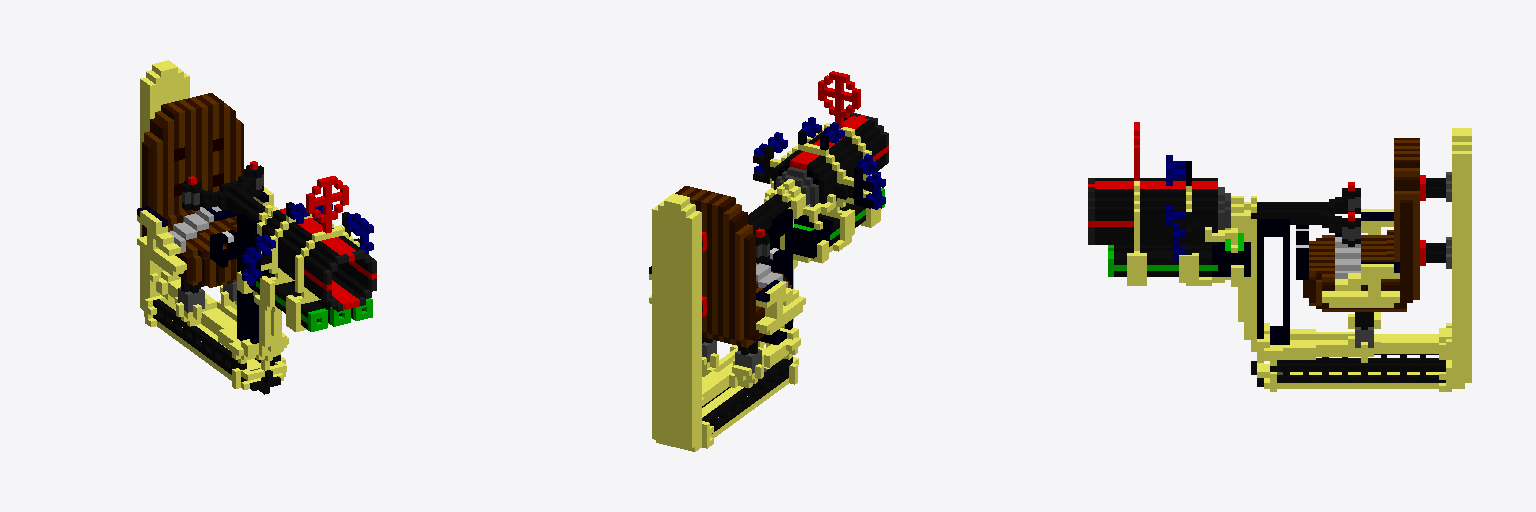
The picture shows the model from 3 angles: view 1: azimuth 30°, elevation 25°; view 2: azimuth 150°, elevation 25°; view 3: azimuth 270°, elevation 25°; orthographic projection.
Parts seen in each view (by area): view 1: OctopodeCanon; view 2: OctopodeCanon; view 3: OctopodeCanon.
Boxes of the visible parts, box(x1,y1,x2,y2) form: OctopodeCanon: box(137, 60, 376, 394); OctopodeCanon: box(649, 71, 888, 451); OctopodeCanon: box(1088, 122, 1471, 391).
Size of the model in its own units: 23 by 44 by 59.
1 materials, 1 textured.